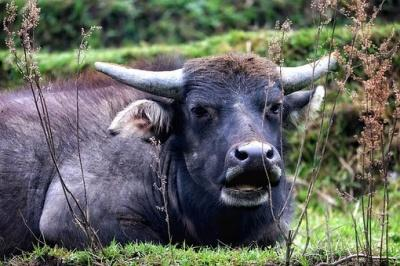buffalo: (0, 52, 332, 250)
